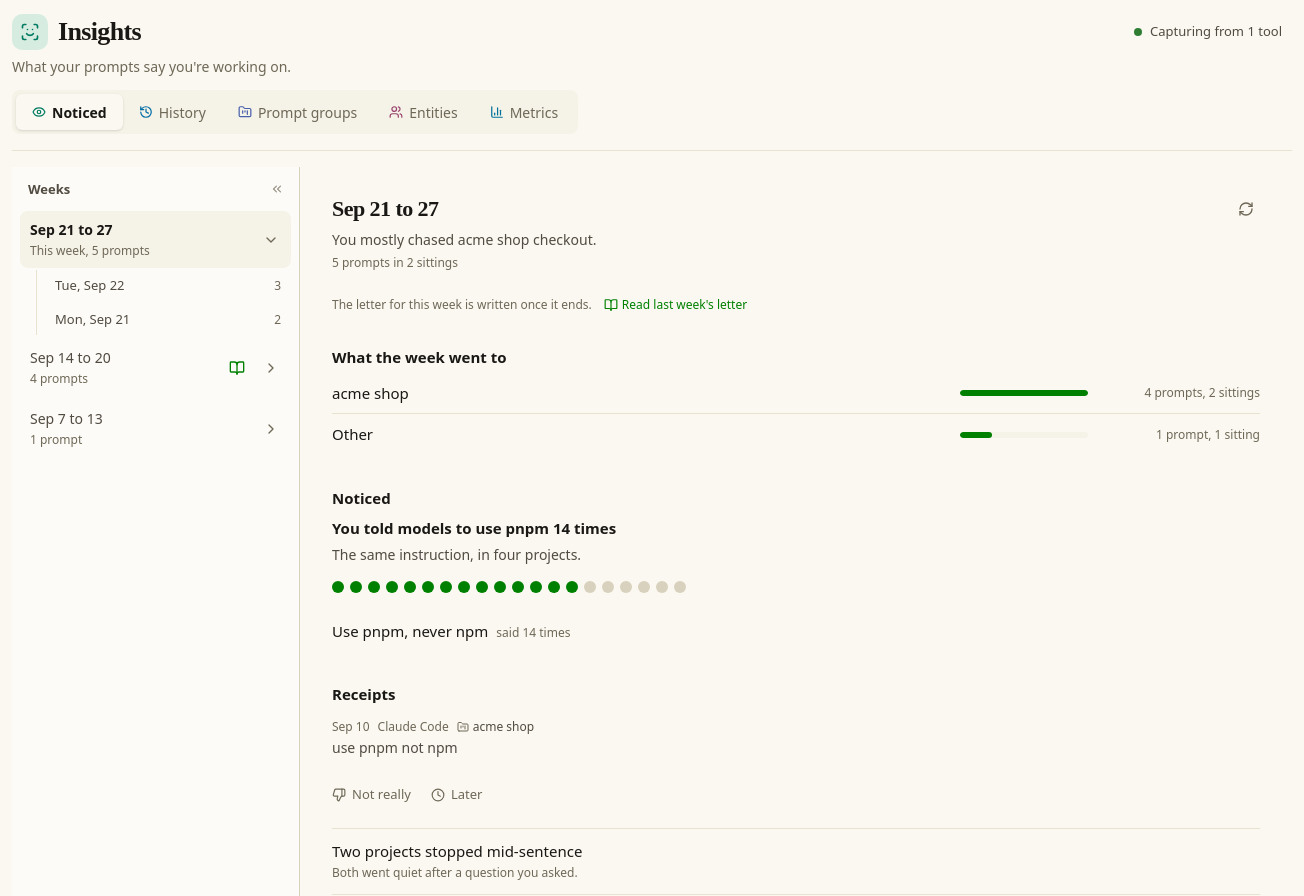
Scenario: Noticed › a day shows its intent line, what it went to, and the findings that apply
Expected: the element with test id "featured-finding" is shown, [332,518,1260,804]
Step 1. Click the button named "Show the days of Sep 14 to 20" → (271, 368), box [255,352,287,384]
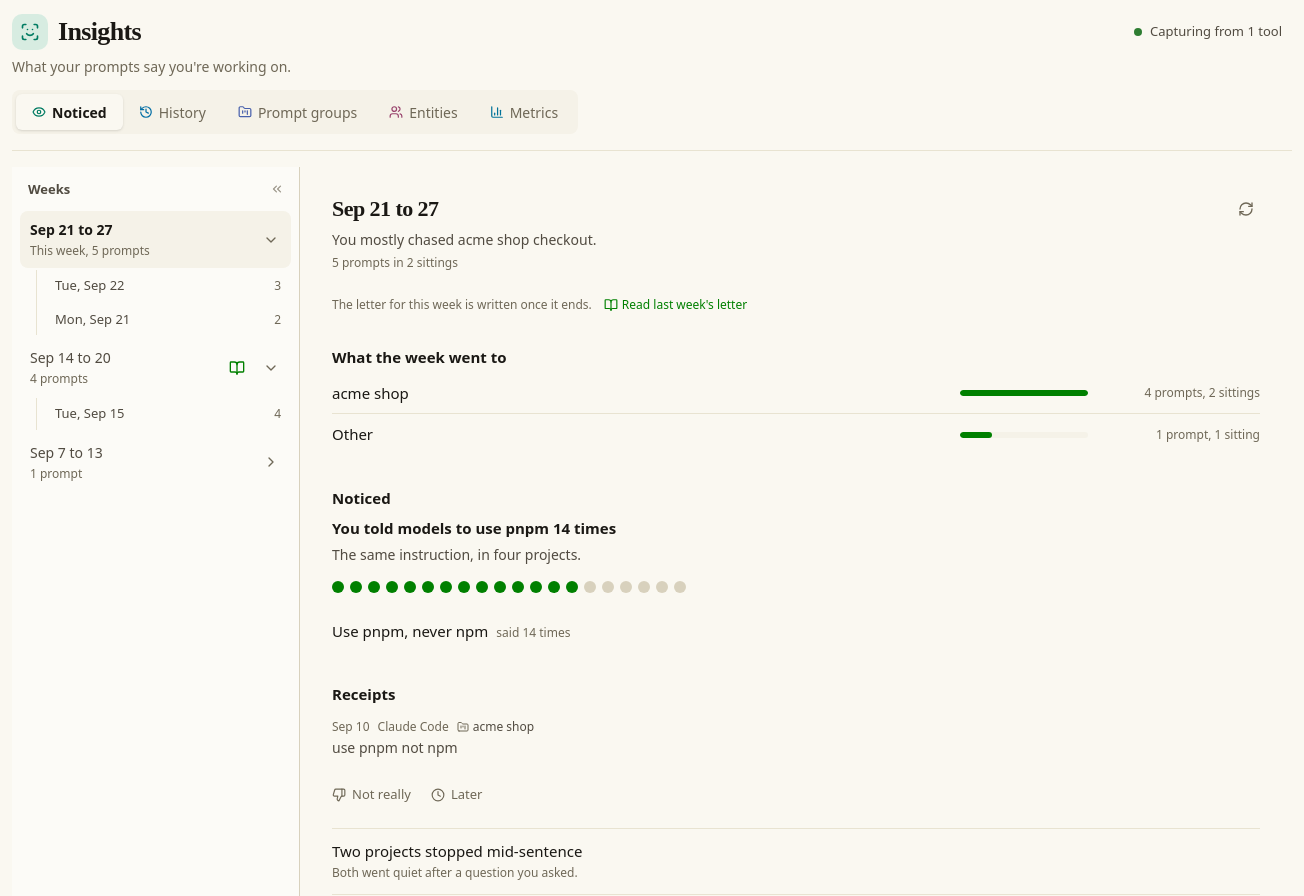
Step 2. Click the button with test id "period-day-2026-09-15" → (168, 414), box [45,398,291,430]
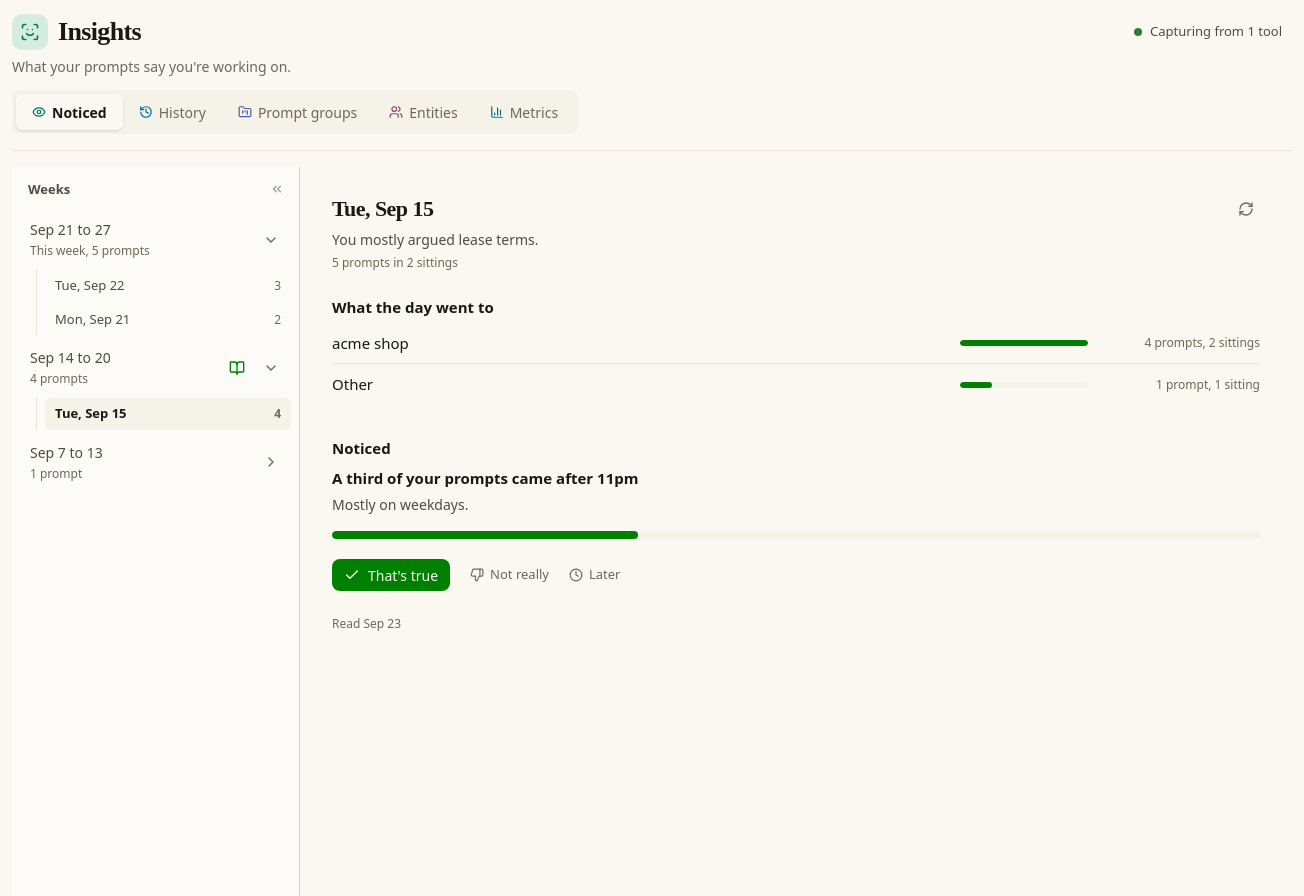
Now the text "You mostly argued lease terms." is shown, box [332,230,538,249]
Now the heading with test id "period-title" reads "Tue, Sep 15", box [332,196,433,221]
Now the heading "What the day went to" is shown, box [332,297,494,317]
